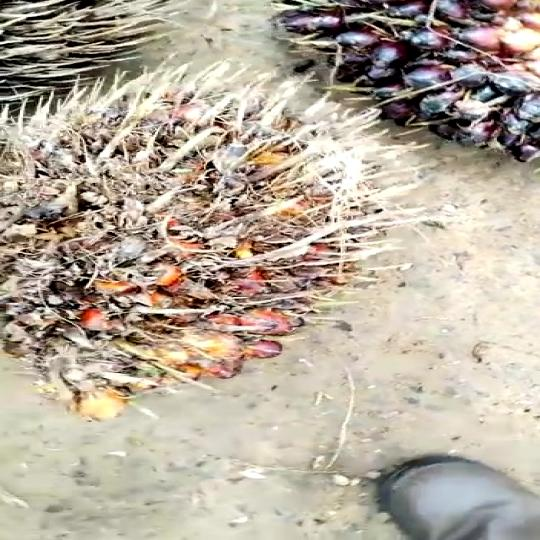terlalu masak: (0, 49, 431, 446)
